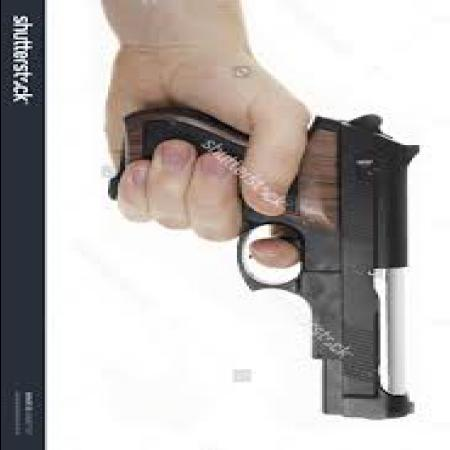Pistol: (117, 109, 433, 418)
